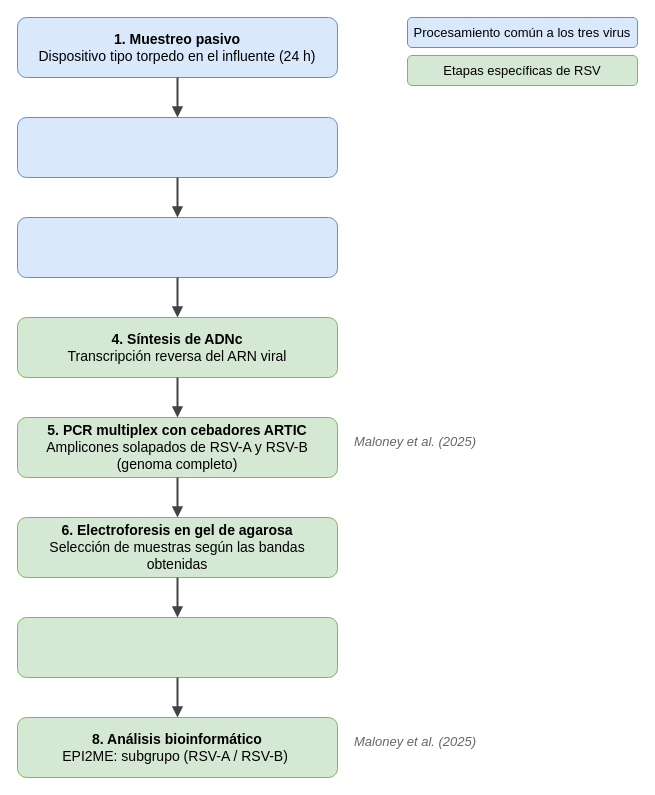
The diagram is 655 pixels wide and 795 high, and some of its shapes have lost their labels. Here are the shapes that lost their labels. From the top down, the box of each, then its label:
(16, 116, 338, 178): 2. Preconcentración viral Precipitación con polietilenglicol (PEG)
(16, 216, 338, 278): 3. Extracción de ARN Kit Quick-RNA Viral (Zymo Research)
(16, 616, 338, 678): 7. Bibliotecas y secuenciación Nanopore Native Barcoding Kit (Oxford Nanopore)
